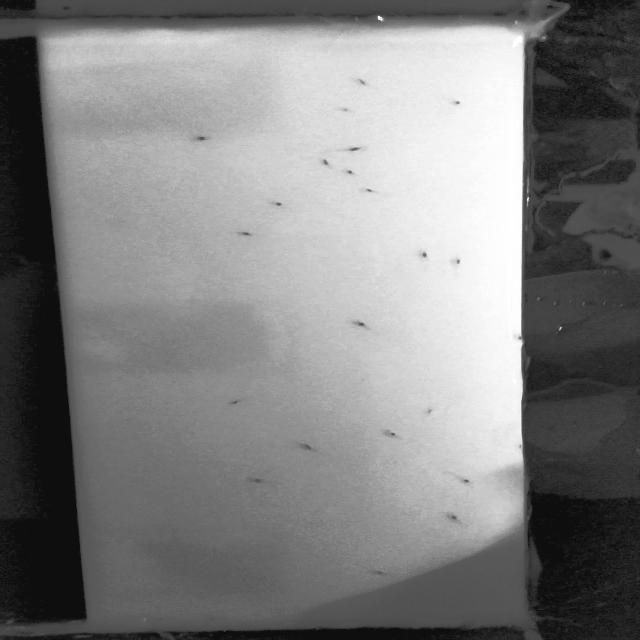shrimp: (361, 567, 392, 581), (349, 74, 372, 90), (297, 441, 323, 454), (444, 96, 466, 111), (192, 132, 216, 145), (336, 104, 356, 119), (442, 511, 465, 523), (360, 183, 379, 197), (354, 318, 374, 331), (349, 145, 368, 158), (459, 476, 476, 489), (236, 228, 254, 240), (422, 408, 440, 420), (271, 198, 289, 209), (383, 428, 401, 439), (417, 249, 433, 261), (319, 159, 336, 170), (340, 167, 356, 177), (252, 476, 266, 487), (452, 256, 464, 268), (232, 397, 244, 408)
